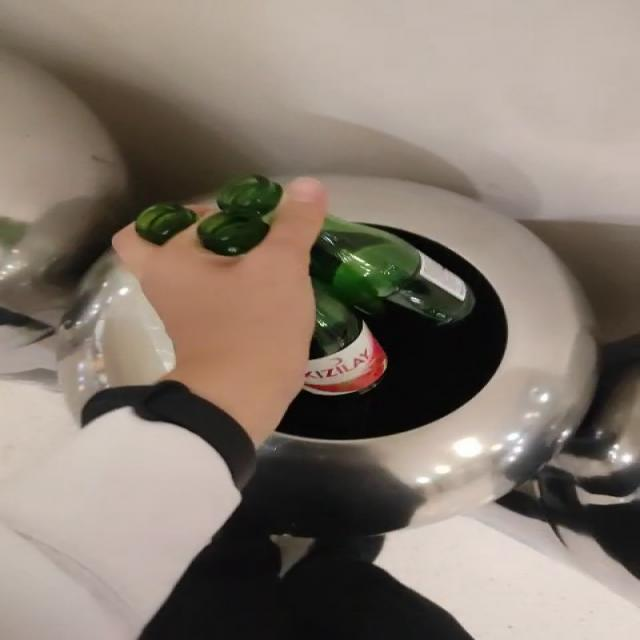Glass: (304, 215, 476, 396), (197, 178, 281, 256), (136, 204, 193, 244)
